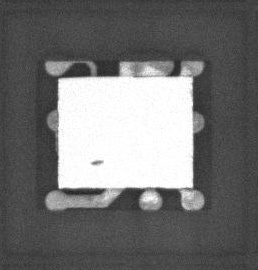DIE_INK: (85, 166, 98, 174)
